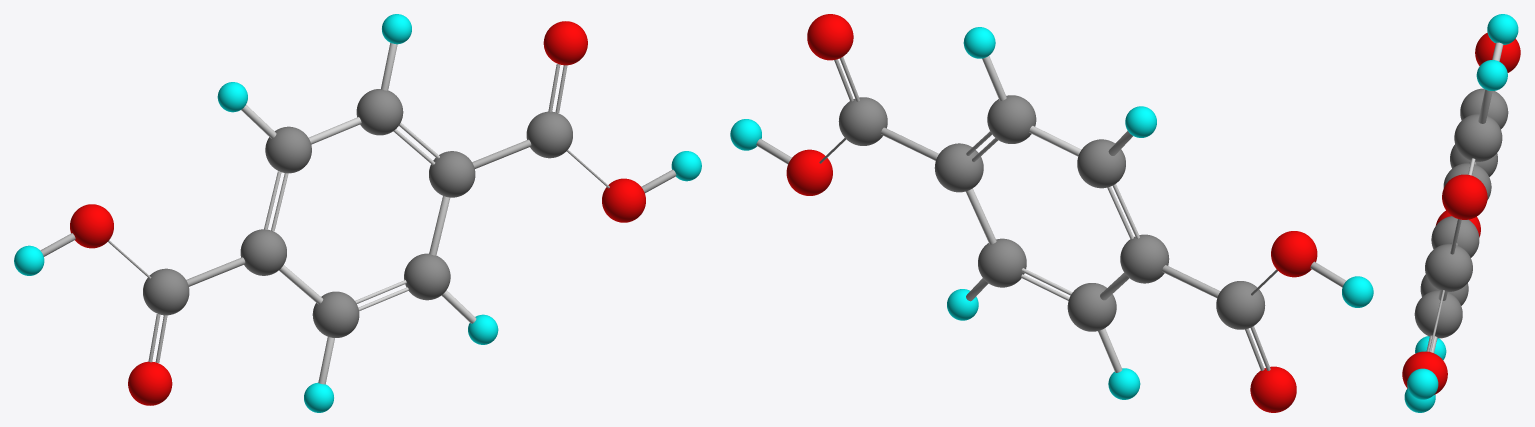
File: terephthalic acid.glb
3 renders of one model, left to right at view 1: azimuth 30°, elevation 25°; view 2: azimuth 150°, elevation 25°; view 3: azimuth 270°, elevation 25°, orthographic. The views are drawn at different scales.
Parts seen in each view (by area): view 1: CMAtom_10, CMAtom_3, CMAtom_9, CMAtom_4, CMAtom_1, CMAtom_0, CMAtom_5, CMAtom_2, CMAtom_11, CMAtom_12, CMAtom_14, CMAtom_13 (+6 smaller); view 2: CMAtom_10, CMAtom_1, CMAtom_3, CMAtom_4, CMAtom_9, CMAtom_0, CMAtom_2, CMAtom_5, CMAtom_11, CMAtom_12, CMAtom_13, CMAtom_14 (+6 smaller); view 3: CMAtom_9, CMAtom_4, CMAtom_3, CMAtom_11, CMAtom_0, CMAtom_2, CMAtom_14, CMAtom_13, CMAtom_16, CMAtom_7, CMAtom_17, CMAtom_1 (+9 smaller).
Part boxes in pixels (bbox=[...]): CMAtom_10: bbox=[143, 268, 189, 315]; CMAtom_3: bbox=[404, 253, 450, 300]; CMAtom_9: bbox=[526, 111, 572, 158]; CMAtom_4: bbox=[356, 89, 403, 135]; CMAtom_1: bbox=[240, 229, 286, 275]; CMAtom_0: bbox=[429, 151, 475, 197]; CMAtom_5: bbox=[312, 291, 359, 337]; CMAtom_2: bbox=[265, 126, 311, 173]; CMAtom_11: bbox=[543, 21, 587, 65]; CMAtom_12: bbox=[128, 361, 172, 405]; CMAtom_14: bbox=[602, 178, 645, 222]; CMAtom_13: bbox=[70, 204, 113, 248]; CMAtom_10: bbox=[1216, 281, 1265, 329]; CMAtom_1: bbox=[1120, 234, 1169, 283]; CMAtom_3: bbox=[978, 238, 1026, 287]; CMAtom_4: bbox=[987, 95, 1036, 143]; CMAtom_9: bbox=[838, 97, 887, 145]; CMAtom_0: bbox=[934, 143, 983, 192]; CMAtom_2: bbox=[1077, 139, 1125, 188]; CMAtom_5: bbox=[1067, 283, 1116, 331]; CMAtom_11: bbox=[807, 14, 853, 60]; CMAtom_12: bbox=[1250, 366, 1296, 412]; CMAtom_13: bbox=[1271, 231, 1317, 277]; CMAtom_14: bbox=[786, 149, 832, 195]; CMAtom_9: bbox=[1425, 244, 1472, 291]; CMAtom_4: bbox=[1454, 114, 1502, 161]; CMAtom_3: bbox=[1414, 290, 1462, 338]; CMAtom_11: bbox=[1442, 174, 1487, 219]; CMAtom_0: bbox=[1431, 216, 1479, 257]; CMAtom_2: bbox=[1460, 88, 1508, 129]; CMAtom_14: bbox=[1402, 351, 1447, 394]; CMAtom_13: bbox=[1475, 32, 1520, 72]; CMAtom_16: bbox=[1407, 368, 1438, 399]; CMAtom_7: bbox=[1476, 60, 1507, 90]; CMAtom_17: bbox=[1487, 14, 1518, 44]; CMAtom_1: bbox=[1443, 163, 1491, 200].
Bounding box in the file's own units: 9.86 × 5.07 × 1.52.
